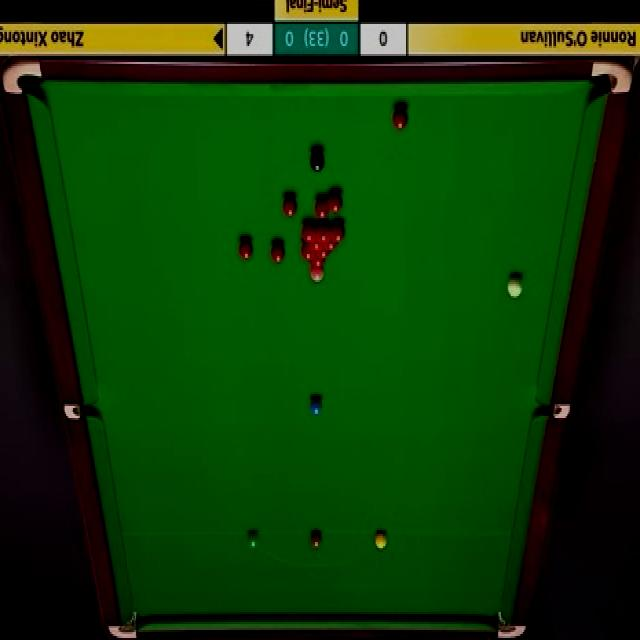black-ball: (309, 149, 325, 174)
blue-ball: (311, 396, 324, 417)
brown-ball: (310, 529, 324, 551)
green-ball: (246, 530, 260, 552)
red-ball: (238, 236, 254, 263), (391, 108, 409, 131), (270, 240, 286, 264), (300, 222, 316, 246), (316, 222, 332, 245), (327, 188, 342, 212), (315, 196, 330, 219), (284, 194, 298, 218), (331, 222, 346, 244), (302, 240, 316, 260), (310, 254, 325, 268), (325, 238, 337, 253)
white-ball: (508, 273, 524, 299)
yellow-ball: (374, 530, 390, 550)
